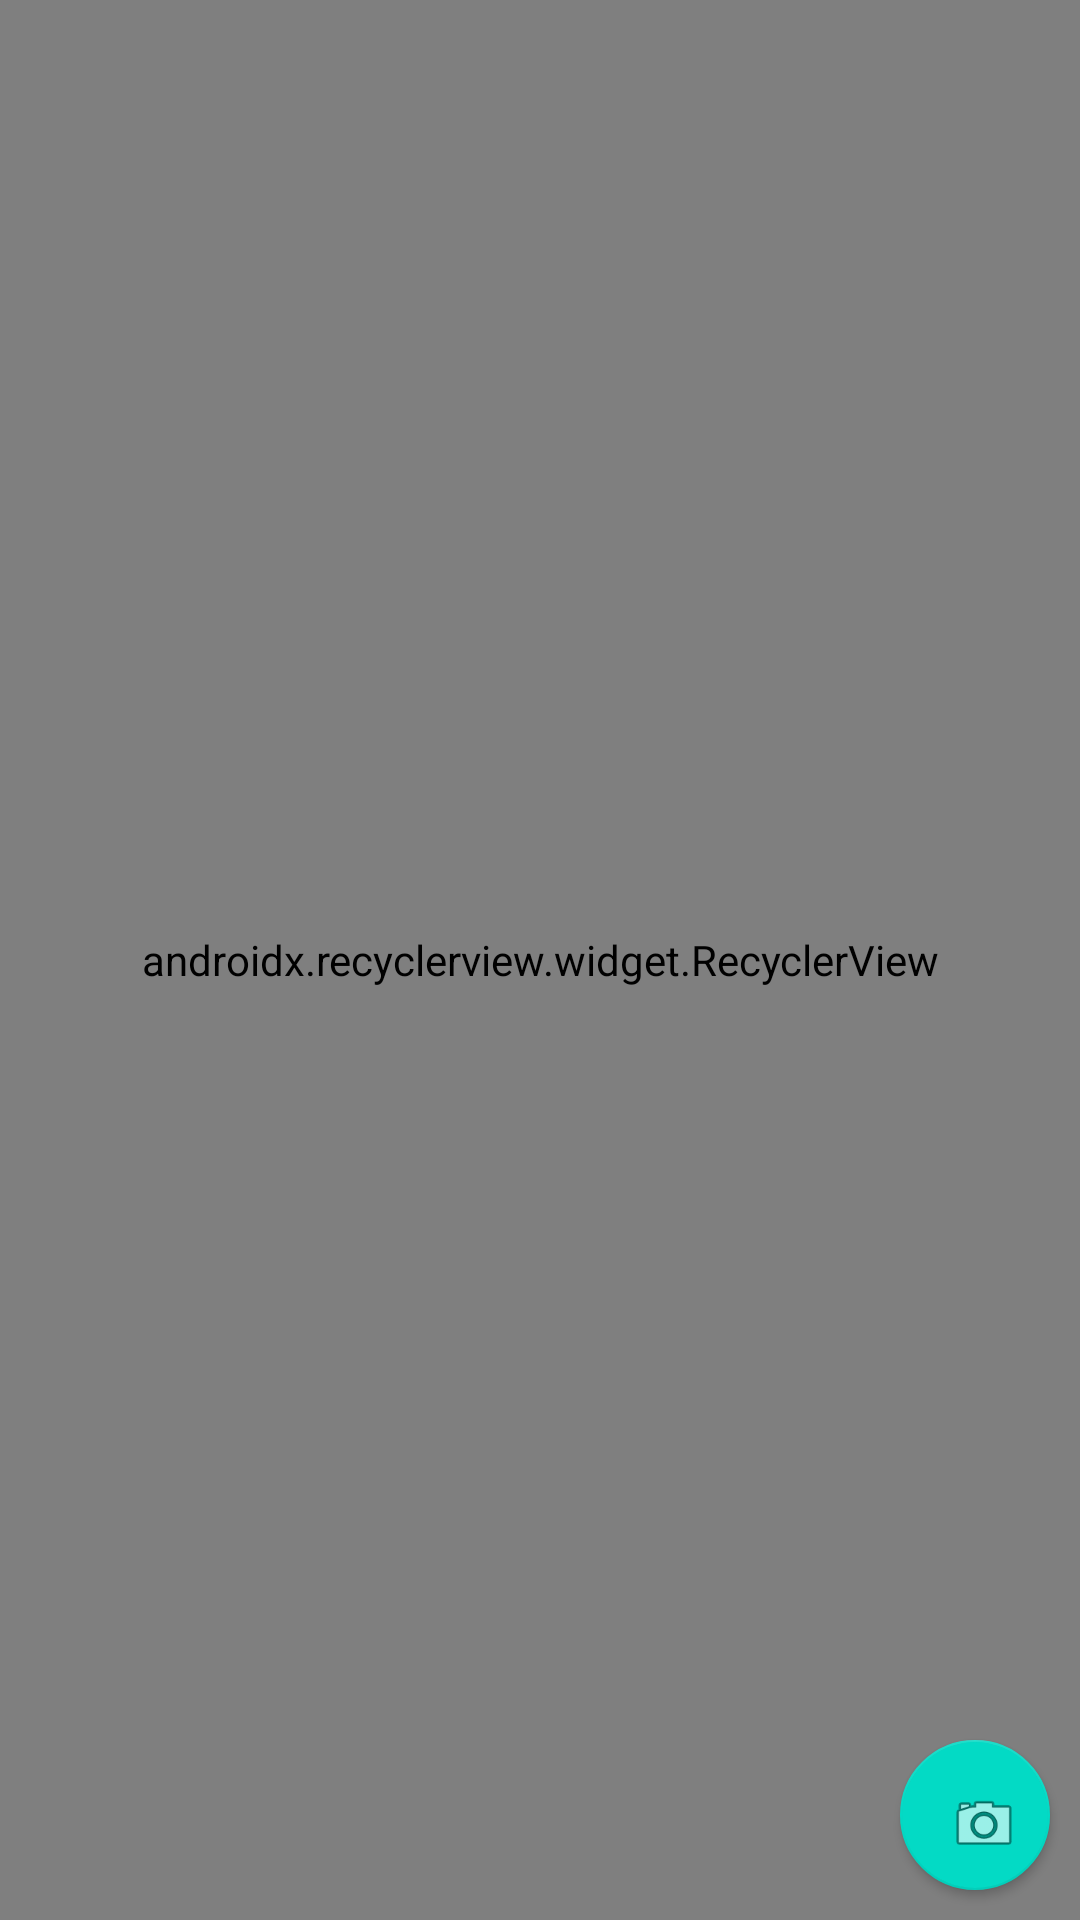

Screen size 1080 × 1920. Icon name, then its center in pixels as (x=x, y=y):
camera: (x=975, y=1815)
